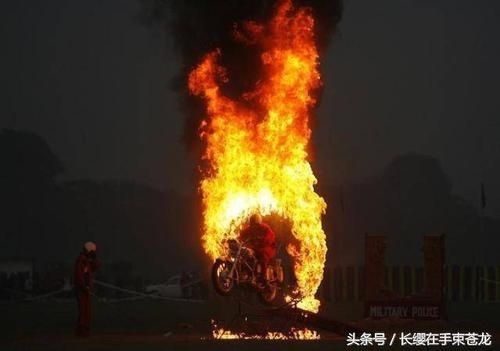fire: (190, 10, 337, 314), (205, 322, 324, 339)
